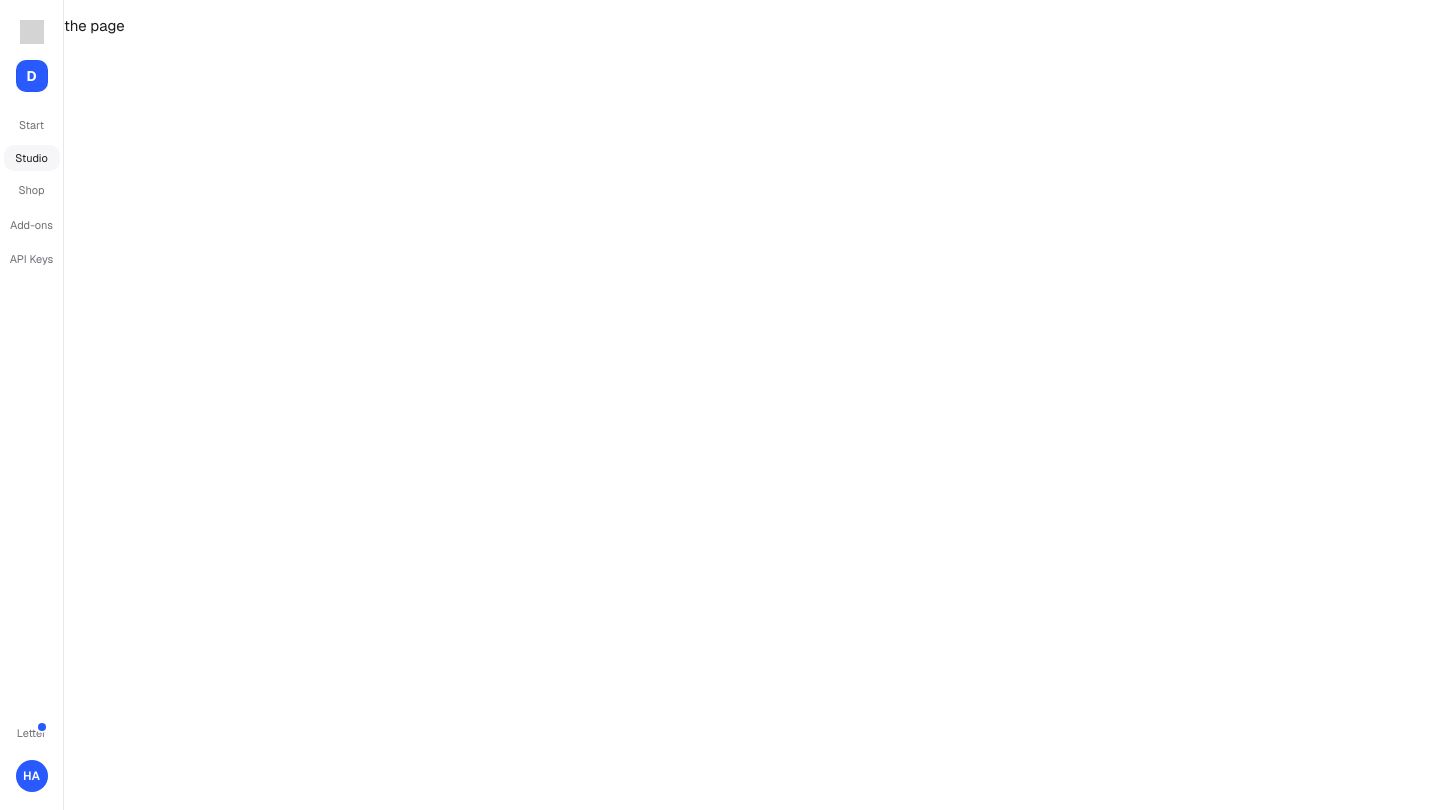
Test: the workspace menu: the workspaces, Workspace settings and New workspace, no organization or invitations
The width and height of the screenshot is (1440, 810).
Expected: the text "the page" is shown, [64,16,125,35]
Step 1. Click the button with class "ws-rail" → (32, 76), box [16,60,48,92]
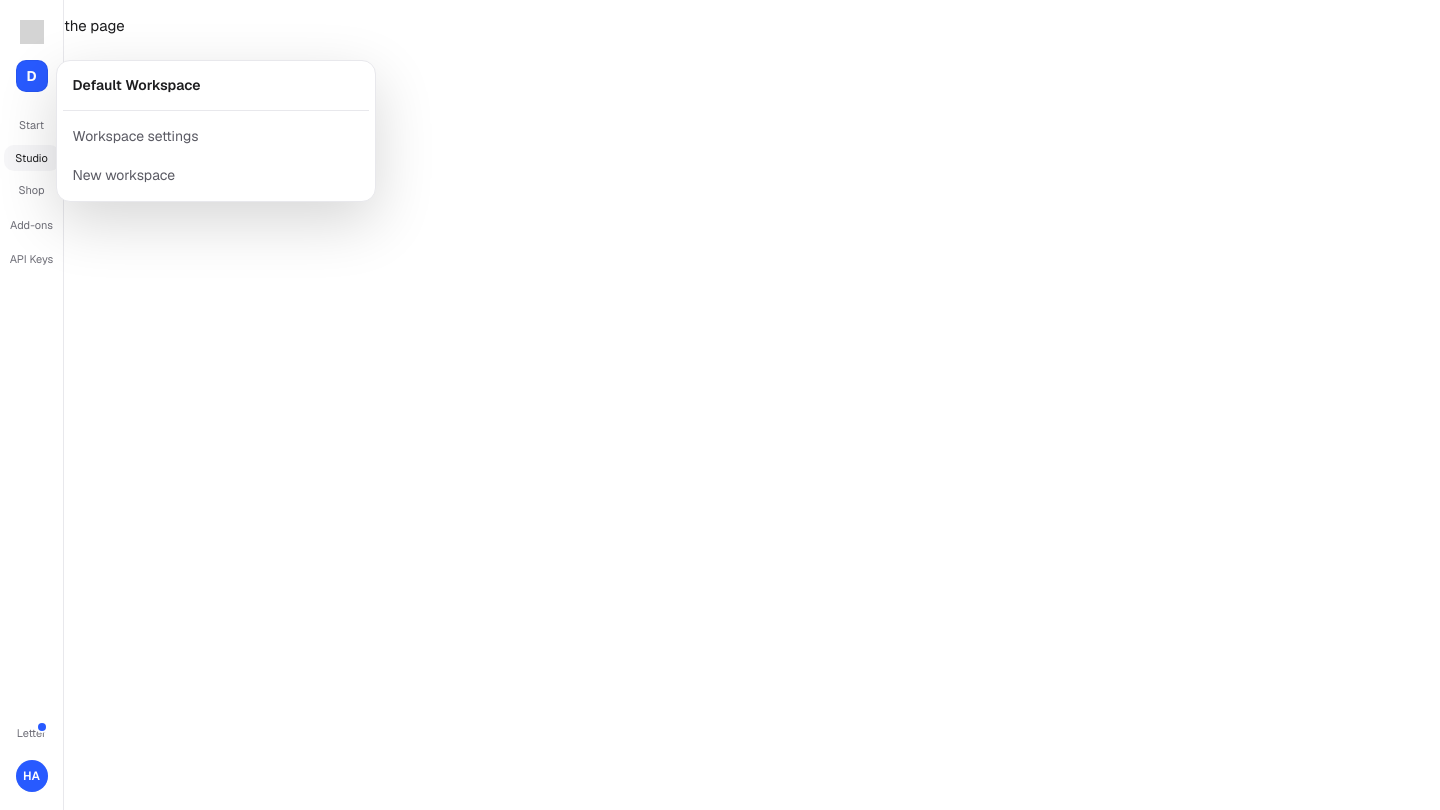
Expected: the menu with class "ws-pop" shows "Default Workspace", [62,67,368,104]
Expected: the menu with class "ws-pop" shows "Workspace settings", [62,117,368,156]
Expected: the menu with class "ws-pop" shows "New workspace", [62,156,368,195]
